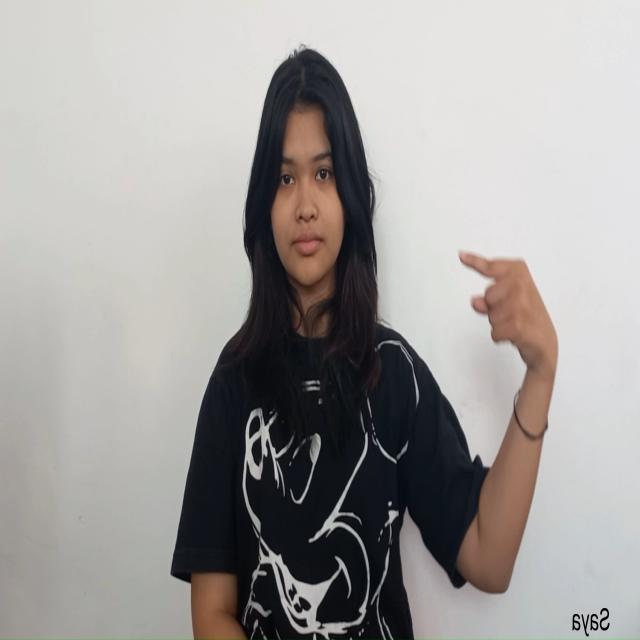Saya -BISINDO-: (455, 246, 562, 415)
